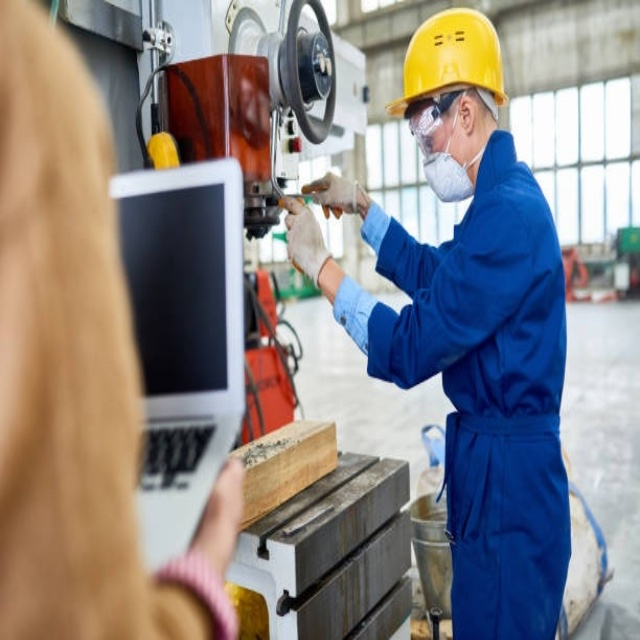Gafas: (406, 88, 468, 149)
Guantes: (283, 203, 332, 289), (302, 171, 369, 219)
Mascara: (413, 105, 480, 203)
